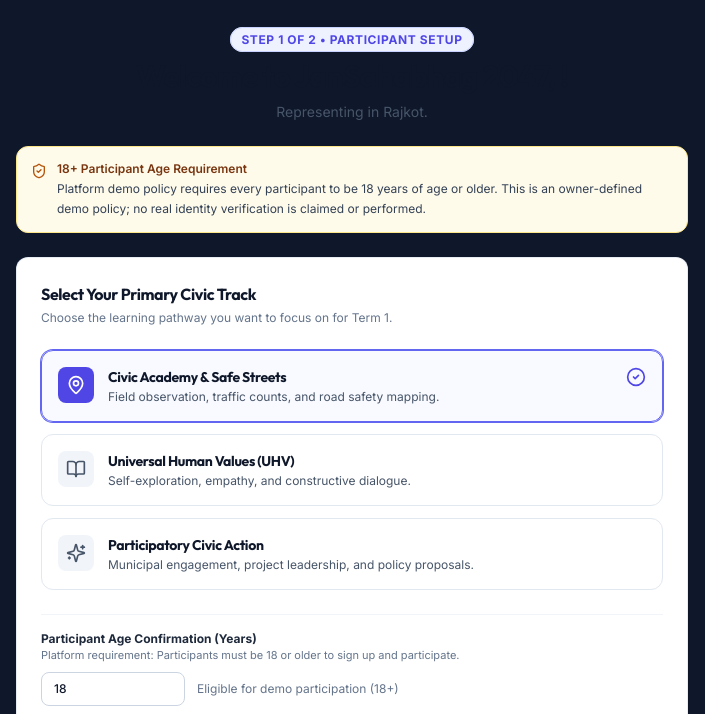
it: Participant Age Policy Invariant & Visible Requirement (Owner Decision 22 Oct 2026) › 3. Onboarding Screen Age Input & Under-18 Prevention › clears error and allows proceeding when valid 18+ age is provided
// First enter under 18
Replace the text in the number field with test id "participant-age-input" with "16": (113, 688) left=41, top=672, right=185, bottom=706
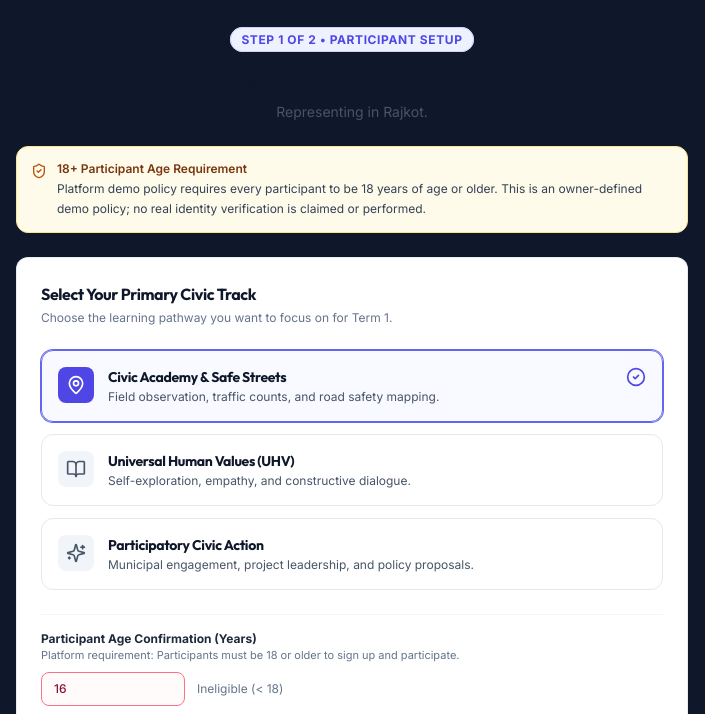
// Correct to 18
Replace the text in the number field with test id "participant-age-input" with "18": (113, 688) left=41, top=672, right=185, bottom=706
(page scrolled)
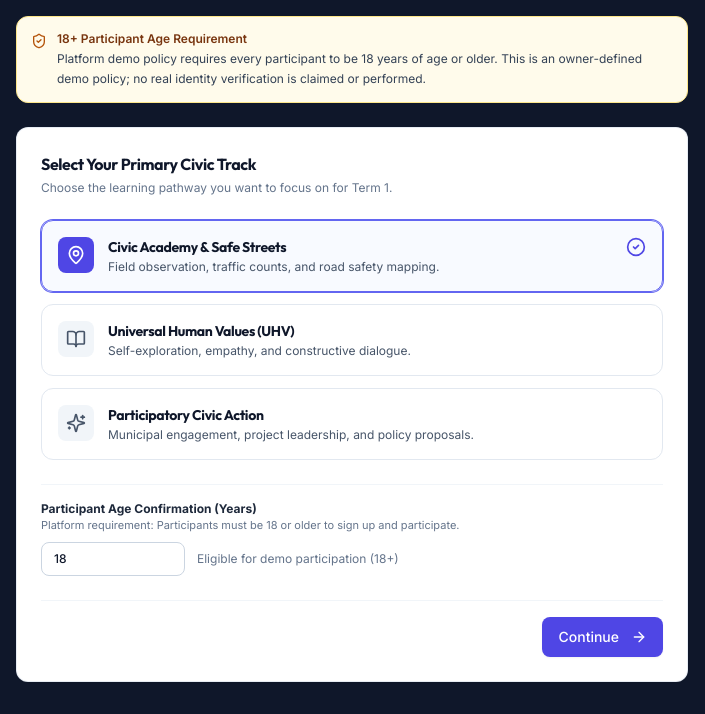
Expected: the button with test id "onboarding-continue-btn" is enabled
// Proceed to Step 2
Click the button with test id "onboarding-continue-btn": click(603, 636) left=542, top=616, right=663, bottom=656
(page scrolled)
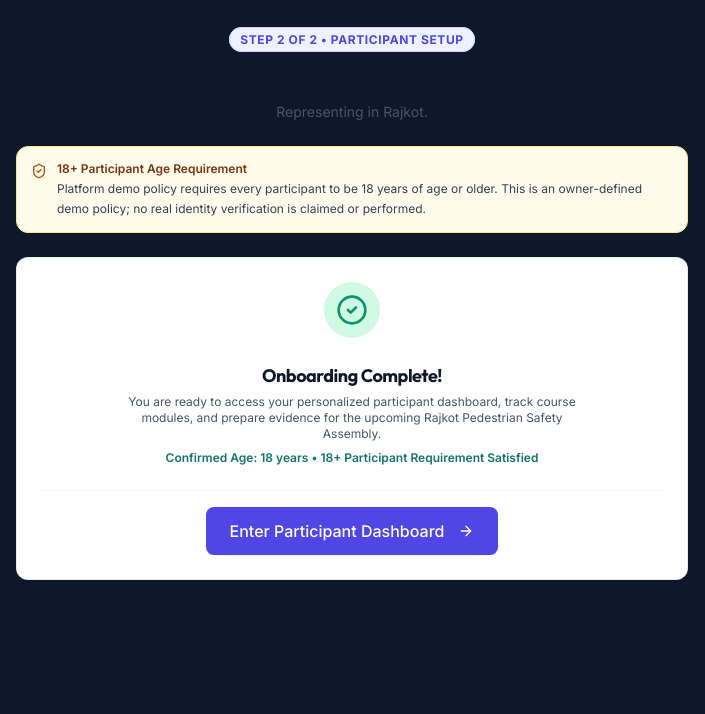
Expected: the heading "Onboarding Complete!" is shown, left=262, top=364, right=442, bottom=387
Expected: the text with test id "confirmed-age-display" shows "18 years", left=166, top=450, right=538, bottom=465
